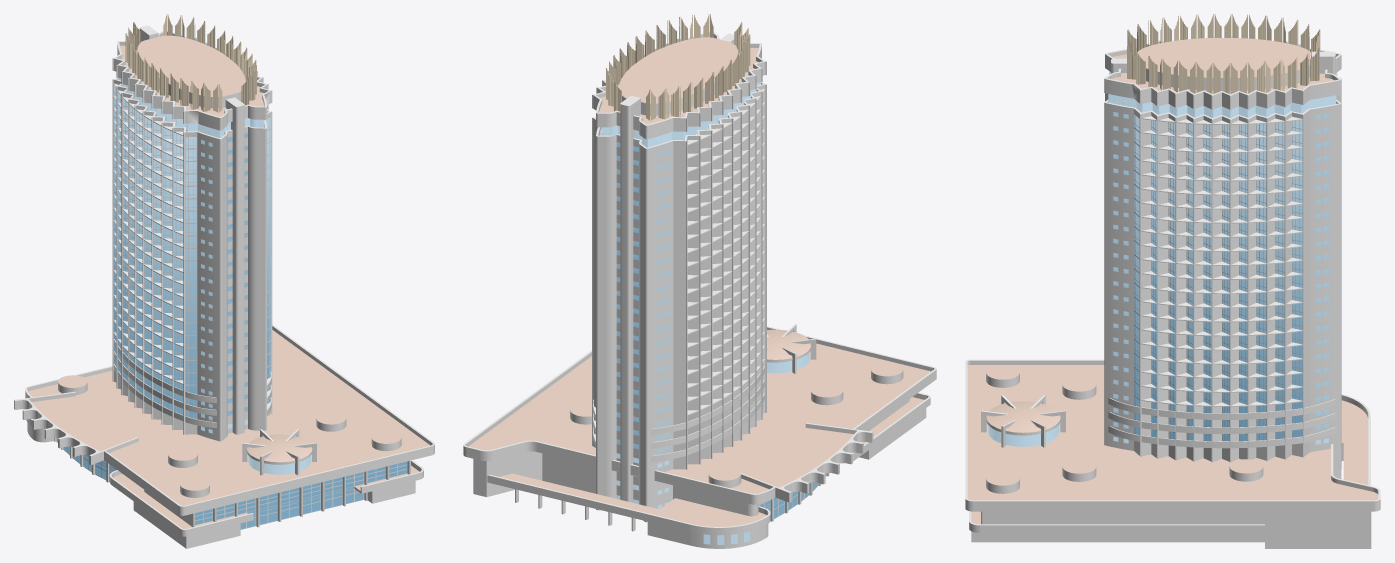
File: gost-kazakh5.glb
The picture shows the model from 3 angles, left to right: view 1: azimuth 30°, elevation 25°; view 2: azimuth 150°, elevation 25°; view 3: azimuth 270°, elevation 25°; orthographic projection. The views are drawn at different scales.
Parts seen in each view (by area): view 1: 1172723, 1182863, 667172, Компонент#7, Компонент#1.009, Компонент#7.001, Компонент#1.008, Компонент#1.007, 1005980, Компонент#1.006, Компонент#1.005, Компонент#1.004 (+42 smaller); view 2: 1172723, 1182863, 667172, Компонент#7, Компонент#7.001, Компонент#2.014, Компонент#2.016, Компонент#2.012, Компонент#2.018, Компонент#2.015, Компонент#2.017, Компонент#2.019 (+26 smaller); view 3: 1172723, 1182863, Компонент#7.001, Компонент#7, Компонент#5.006, Компонент#1.011, Компонент#1.018, Компонент#1.015, 1005980, Компонент#1.010, Компонент#1.017, Компонент#2.043 (+59 smaller).
Part boxes in pixels (box(x1,y1,x2,y2)): 1172723: box(14, 324, 434, 515); 1182863: box(26, 419, 423, 548); 667172: box(139, 25, 244, 434); Компонент#7: box(112, 38, 232, 130); Компонент#1.009: box(185, 136, 197, 419); Компонент#7.001: box(154, 31, 272, 119); Компонент#1.008: box(173, 132, 183, 417); Компонент#1.007: box(163, 127, 172, 410); 1005980: box(246, 434, 312, 474); Компонент#1.006: box(153, 122, 161, 405); Компонент#1.005: box(144, 116, 151, 399); Компонент#1.004: box(136, 111, 142, 393); 1172723: box(463, 326, 936, 504); 1182863: box(473, 392, 930, 548); 667172: box(620, 33, 734, 502); Компонент#7: box(633, 40, 766, 139); Компонент#7.001: box(592, 31, 720, 127); Компонент#2.014: box(633, 277, 766, 355); Компонент#2.016: box(633, 304, 766, 382); Компонент#2.012: box(633, 250, 766, 328); Компонент#2.018: box(633, 331, 766, 409); Компонент#2.015: box(633, 291, 766, 368); Компонент#2.017: box(633, 318, 766, 395); Компонент#2.019: box(633, 345, 766, 422); 1172723: box(965, 359, 1380, 511); 1182863: box(969, 394, 1371, 548); Компонент#7.001: box(1104, 57, 1341, 110); Компонент#7: box(1105, 36, 1341, 72); Компонент#5.006: box(1104, 431, 1341, 462); Компонент#1.011: box(1292, 120, 1302, 437); Компонент#1.018: box(1256, 123, 1266, 440); Компонент#1.015: box(1275, 122, 1284, 439); 1005980: box(986, 401, 1060, 446); Компонент#1.010: box(1239, 124, 1247, 441); Компонент#1.017: box(1203, 124, 1211, 441); Компонент#2.043: box(1104, 149, 1341, 180).
Size of the model in its own units: 77.36 by 103 by 88.2.
318 materials, 1 textured.
